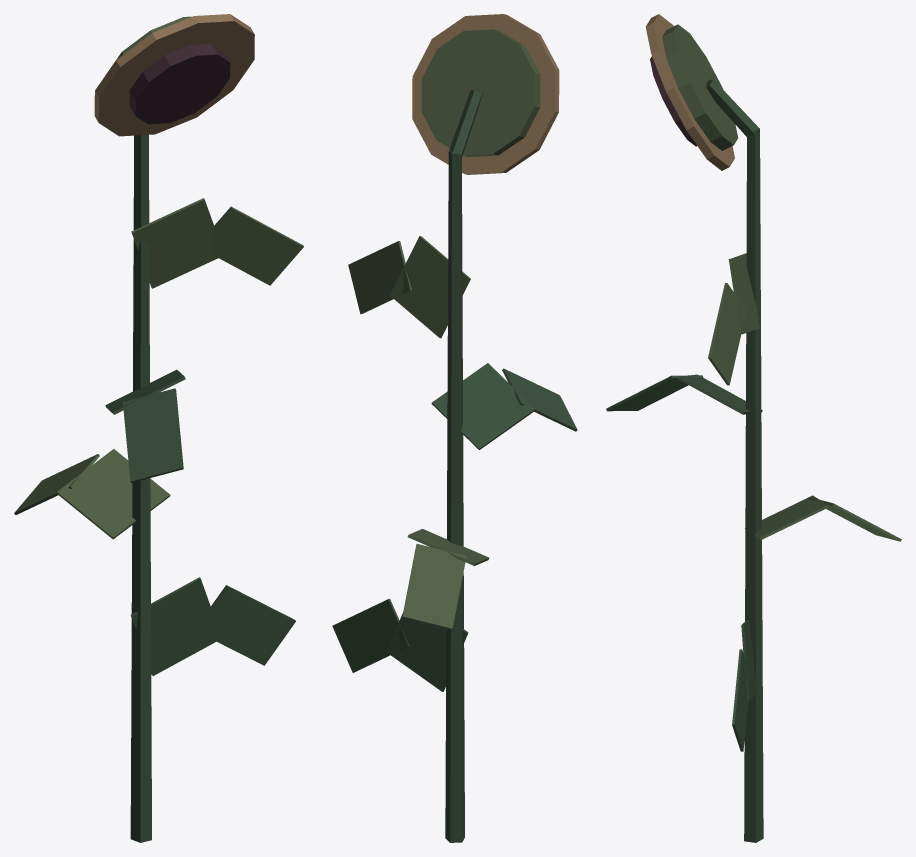
The model's file is floarea_soarelui.glb.
3 views of the same model, side by side, from view 1: azimuth 30°, elevation 25°; view 2: azimuth 150°, elevation 25°; view 3: azimuth 270°, elevation 25° (orthographic). The views are drawn at different scales.
Visible parts, largest first — view 1: Floare; view 2: Floare; view 3: Floare.
Boxes of the visible parts, x1=… form: Floare: x1=14, y1=14, x2=303, y2=842; Floare: x1=332, y1=14, x2=577, y2=842; Floare: x1=606, y1=14, x2=901, y2=842.
Bounding box in the file's own units: 0.5418 × 2.01 × 0.6608.
